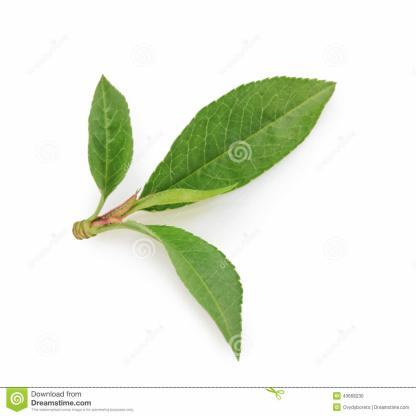Peach leaf: (138, 70, 348, 207), (123, 219, 243, 363), (81, 72, 137, 202)
